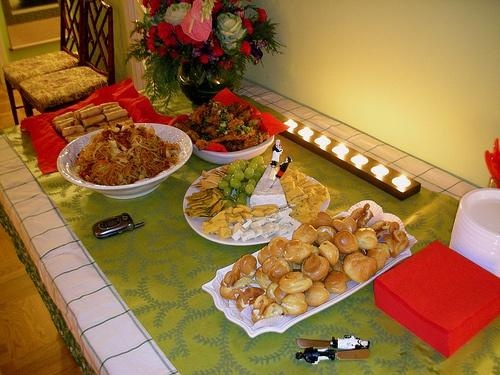chair: (20, 1, 114, 119), (5, 1, 85, 126)
diningtable: (1, 76, 500, 375)
